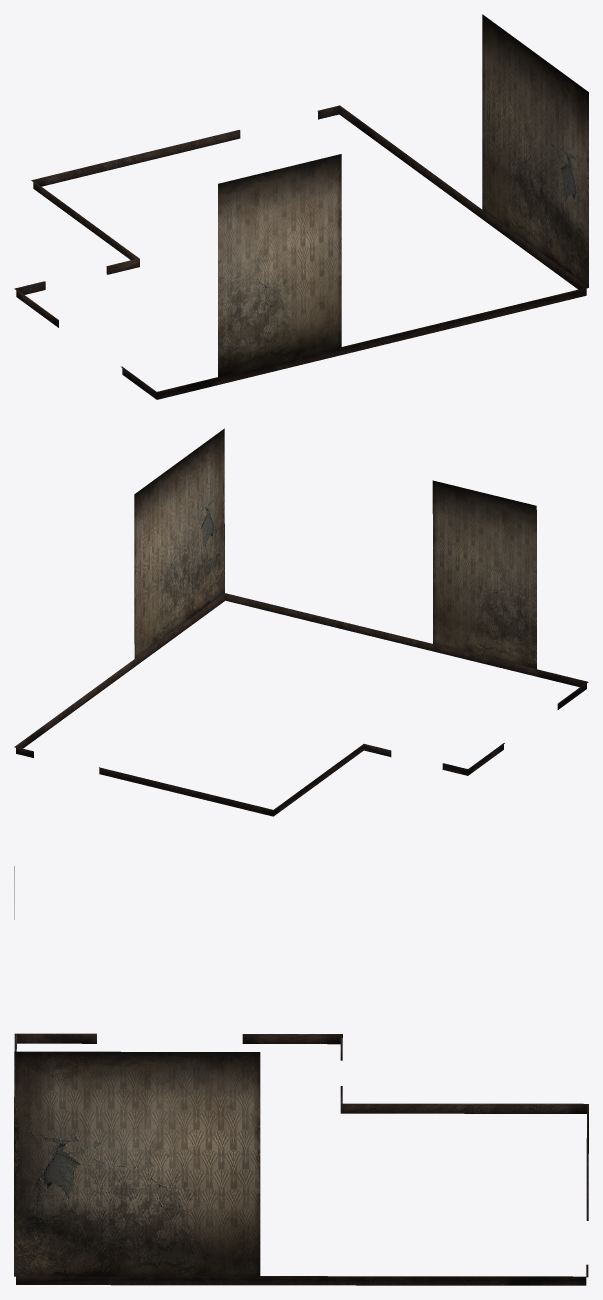
File: Room7.obj
3 views of the same model, one above another, from view 1: azimuth 30°, elevation 25°; view 2: azimuth 150°, elevation 25°; view 3: azimuth 270°, elevation 25° (orthographic). The views are drawn at different scales.
Visible parts, largest first — view 1: Room7; view 2: Room7; view 3: Room7.
Part boxes in pixels (x1,y1,x2,y2): Room7: (14,14,588,399); Room7: (14,428,588,816); Room7: (14,866,588,1285).
Bounding box in the file's own units: 59.1 × 26.61 × 59.07.
